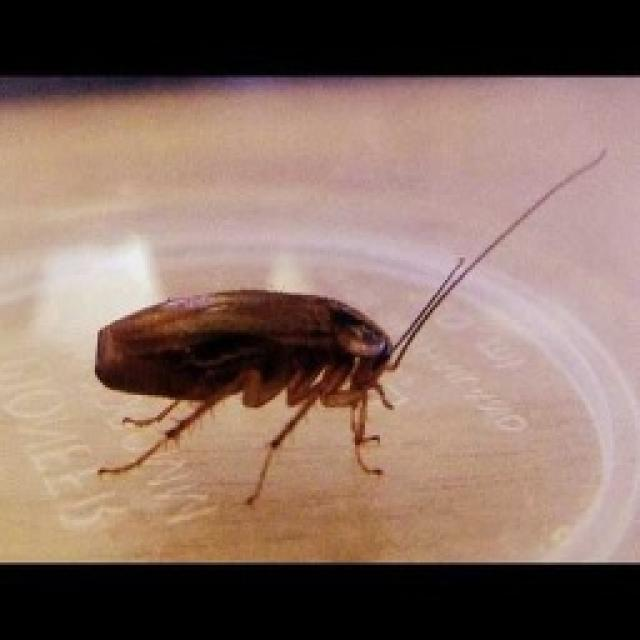cockroach: (88, 143, 610, 510)
